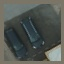car: (7, 26, 21, 60), (26, 16, 40, 50)
